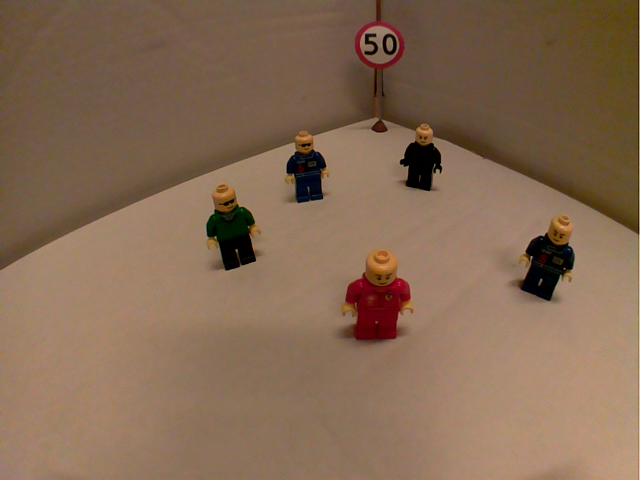Ograniczenie 50: (350, 20, 409, 72)
Postac LEGO: (339, 247, 419, 347), (515, 211, 580, 309), (202, 180, 266, 275), (279, 125, 334, 205), (396, 115, 446, 194)
